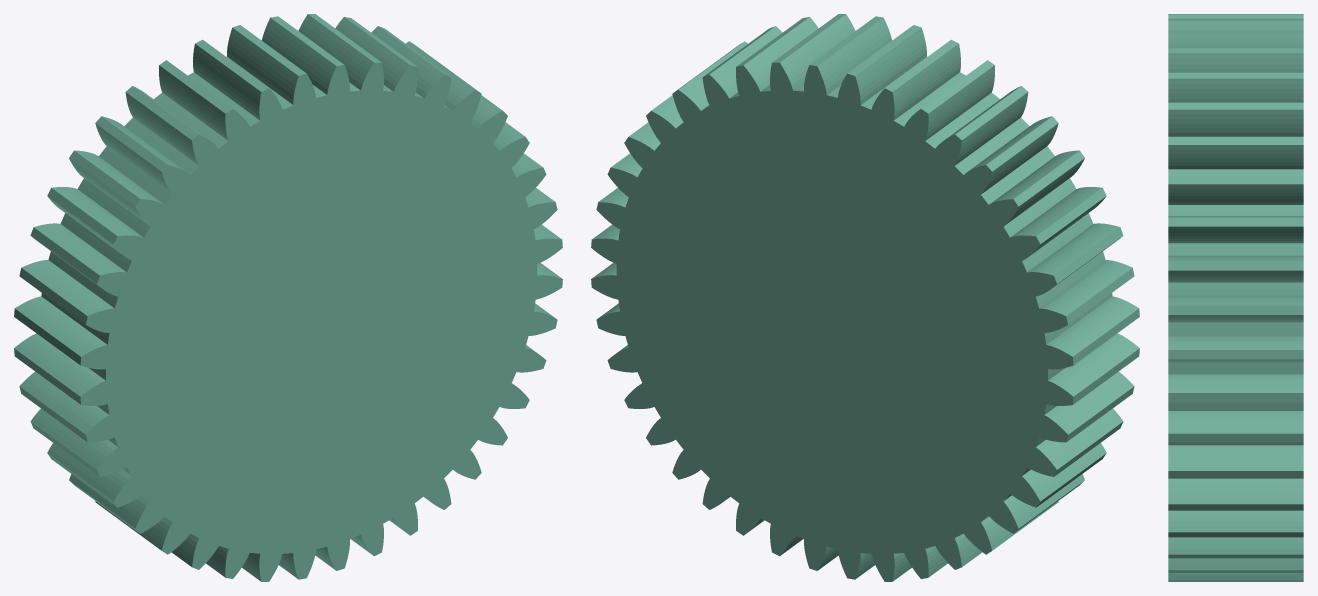
File: step_12.glb
The picture shows the model from 3 angles, left to right: view 1: azimuth 30°, elevation 25°; view 2: azimuth 150°, elevation 25°; view 3: azimuth 270°, elevation 25°; orthographic projection.
Visible parts, largest first — view 1: part__gear wheel; view 2: part__gear wheel; view 3: part__gear wheel.
Boxes of the visible parts, x1,y1,x2,y2 form: part__gear wheel: (14, 14, 562, 581); part__gear wheel: (591, 14, 1139, 581); part__gear wheel: (1168, 14, 1303, 581).
Size of the model in its own units: 105 by 105 by 25.
